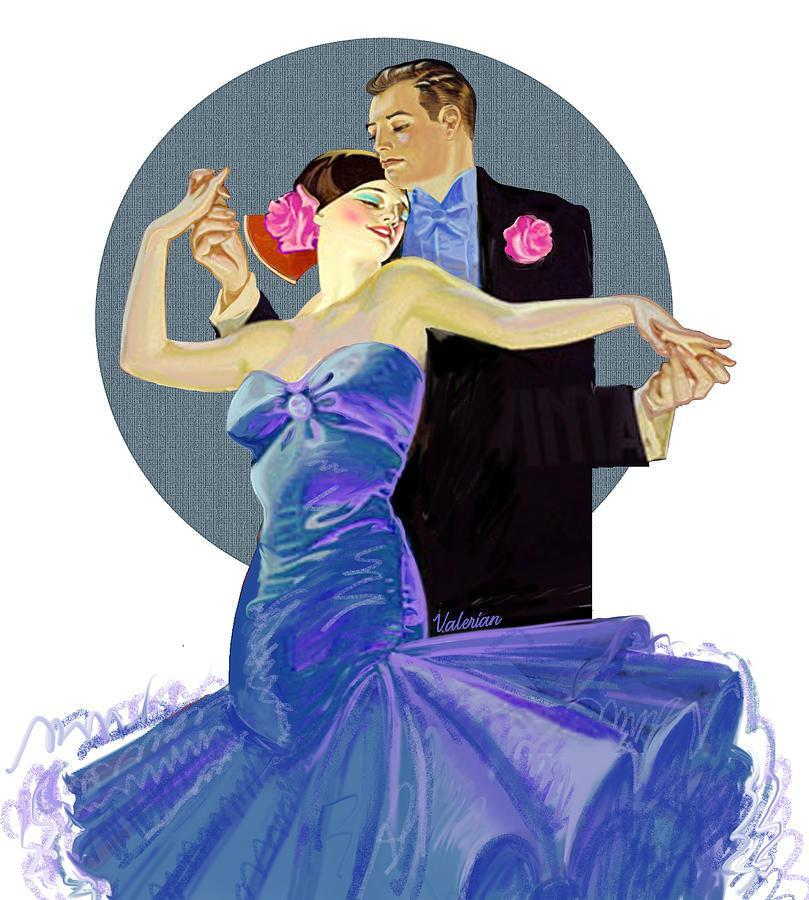person: (105, 138, 661, 875), (356, 53, 669, 644)
